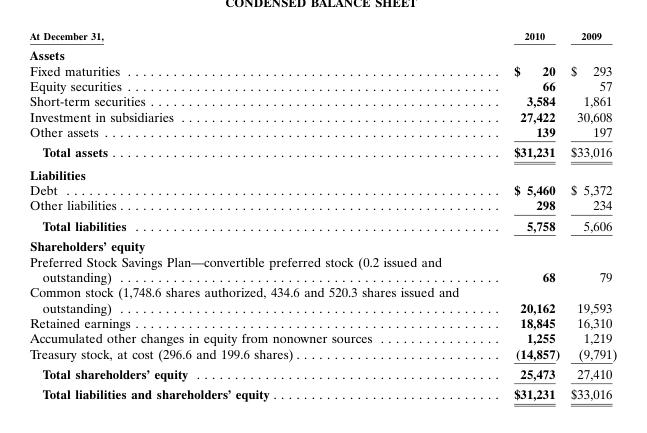table: (29, 29, 616, 401)
table column: (29, 29, 485, 401), (485, 29, 564, 401), (564, 29, 616, 401)
table column header: (29, 29, 616, 44)
table projected row header: (29, 44, 616, 62), (29, 163, 616, 181), (29, 235, 616, 253)
table row: (29, 253, 616, 284), (29, 284, 616, 314), (29, 141, 616, 163), (29, 215, 616, 235), (29, 363, 616, 383), (29, 44, 616, 62), (29, 123, 616, 141), (29, 163, 616, 181), (29, 197, 616, 215), (29, 235, 616, 253), (29, 345, 616, 363), (29, 383, 616, 401), (29, 77, 616, 93), (29, 181, 616, 197), (29, 314, 616, 330), (29, 29, 616, 44), (29, 62, 616, 77), (29, 93, 616, 108), (29, 108, 616, 123), (29, 330, 616, 345)
